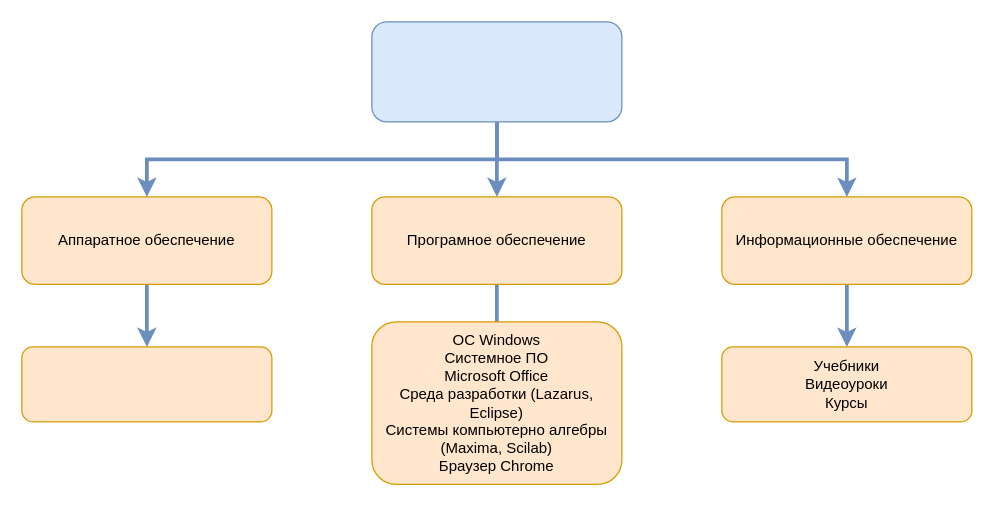
This 994x506 diagram has some shape labels left out. The shapes that lost their labels are listed below. From the top down, each one's centre as x and y in pixels, then its label:
At pixel 496 71: "Рабочее место студента".
At pixel 146 384: "Ноутбук Мышь Наушники".
